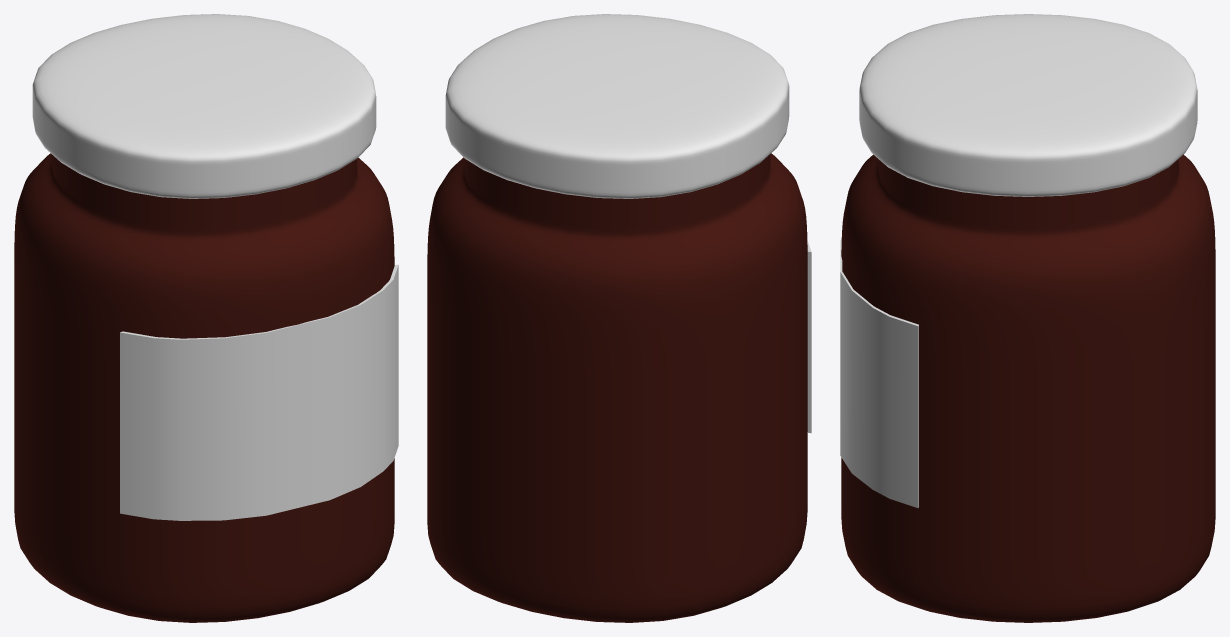
File: jar.fbx
3 views of the same model, side by side, from view 1: azimuth 30°, elevation 25°; view 2: azimuth 150°, elevation 25°; view 3: azimuth 270°, elevation 25° (orthographic).
Visible parts, largest first — view 1: Cube, Cube.001, Plane; view 2: Cube, Cube.001, Plane; view 3: Cube, Cube.001, Plane.
Part boxes in pixels (bbox=[...]): Cube: bbox=[14, 153, 394, 622]; Cube.001: bbox=[32, 14, 376, 198]; Plane: bbox=[120, 264, 398, 520]; Cube: bbox=[427, 153, 807, 622]; Cube.001: bbox=[445, 14, 789, 198]; Plane: bbox=[807, 240, 811, 433]; Cube: bbox=[841, 154, 1215, 622]; Cube.001: bbox=[859, 14, 1197, 196]; Plane: bbox=[840, 239, 918, 507].
Bounding box in the file's own units: 183 × 258 × 184.
